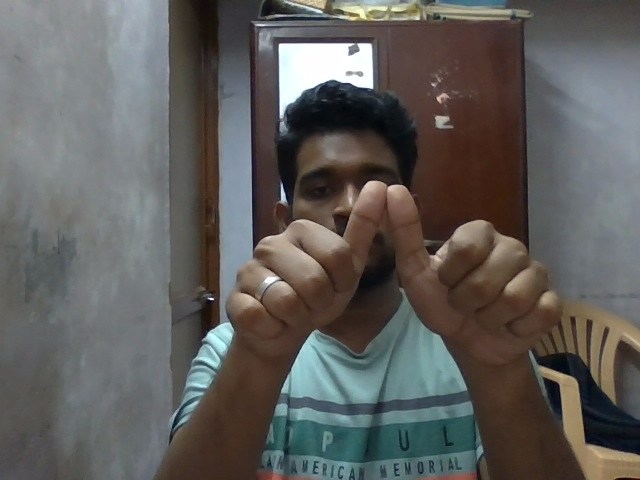A: (213, 174, 567, 376)
